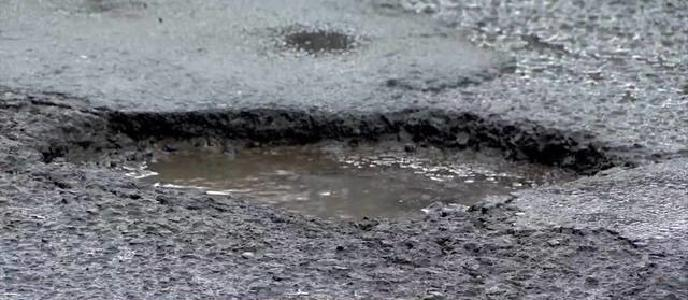pothole: (34, 103, 644, 230), (276, 23, 362, 58)
